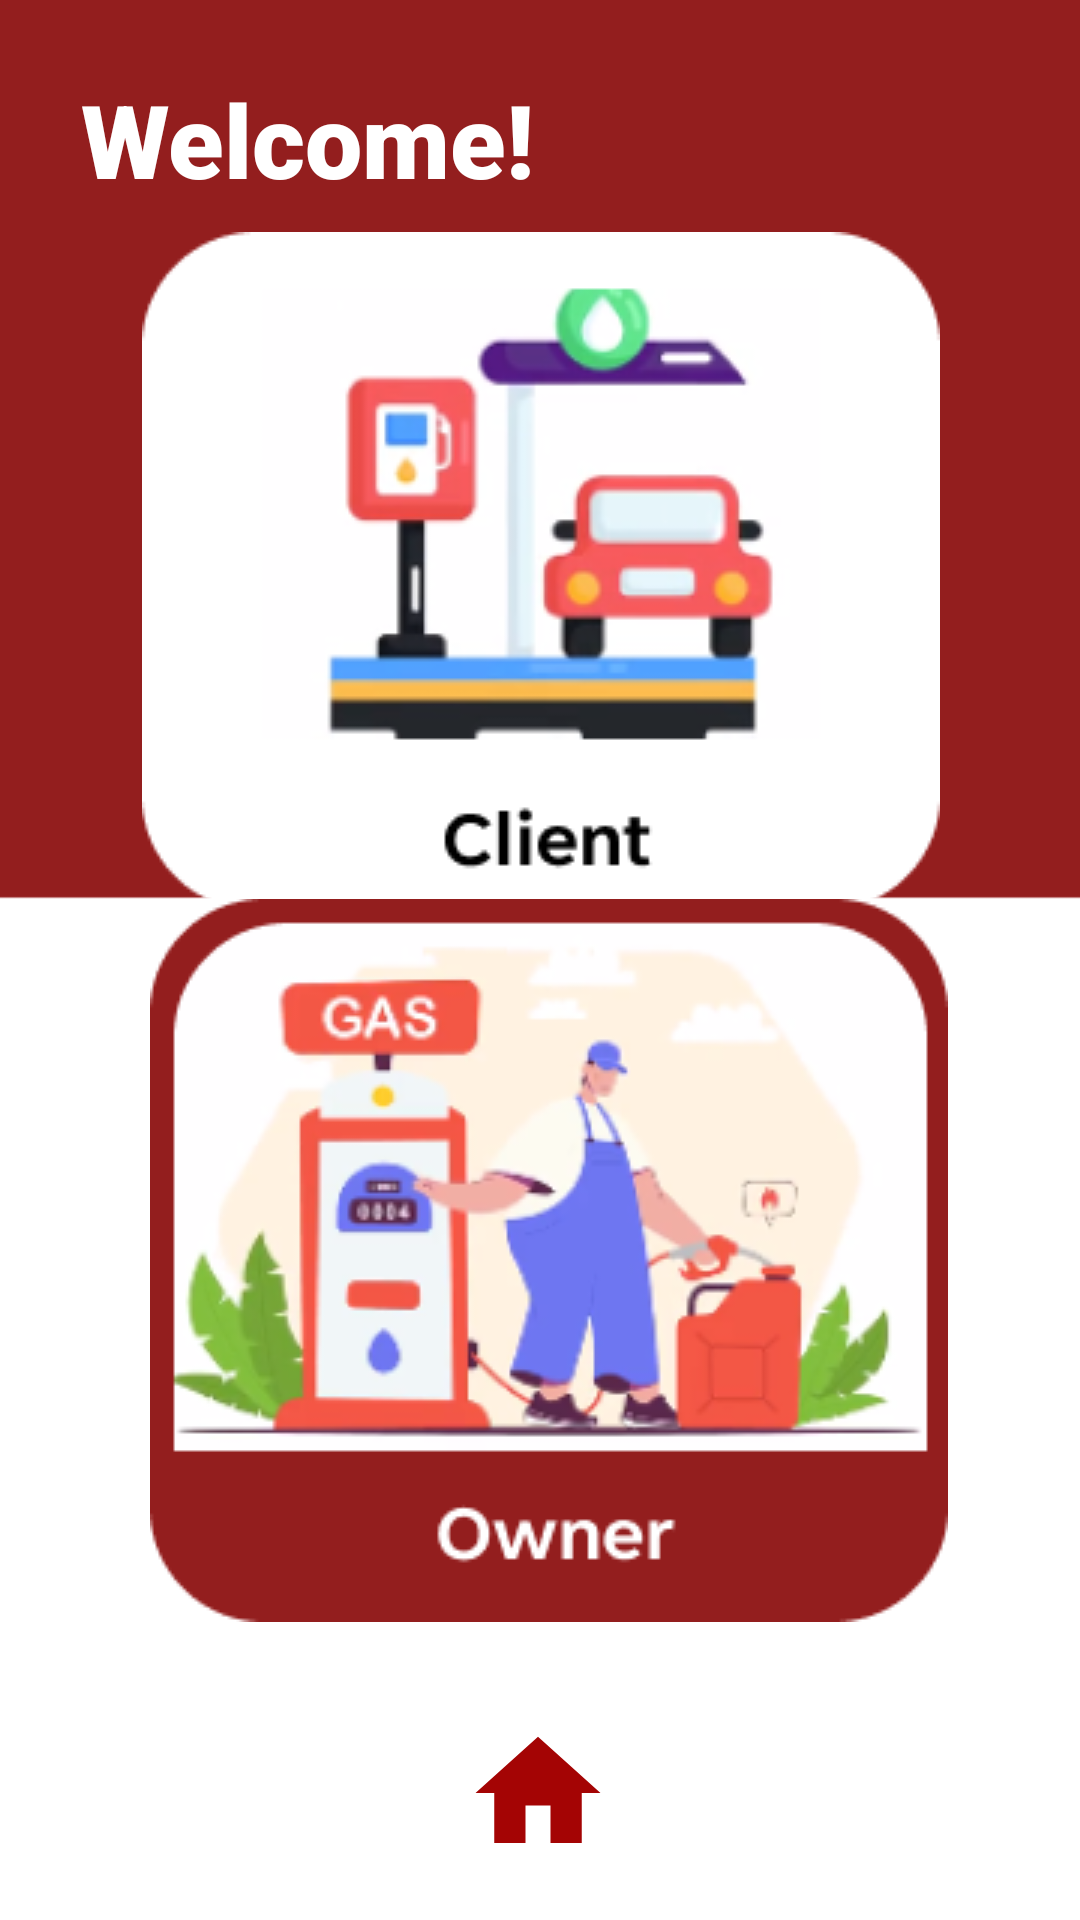

Locate icon controls on the screen. Image size 1080px x 1920px, boxes as (x1, y1, x2, y2).
home: (476, 1737, 600, 1843)
